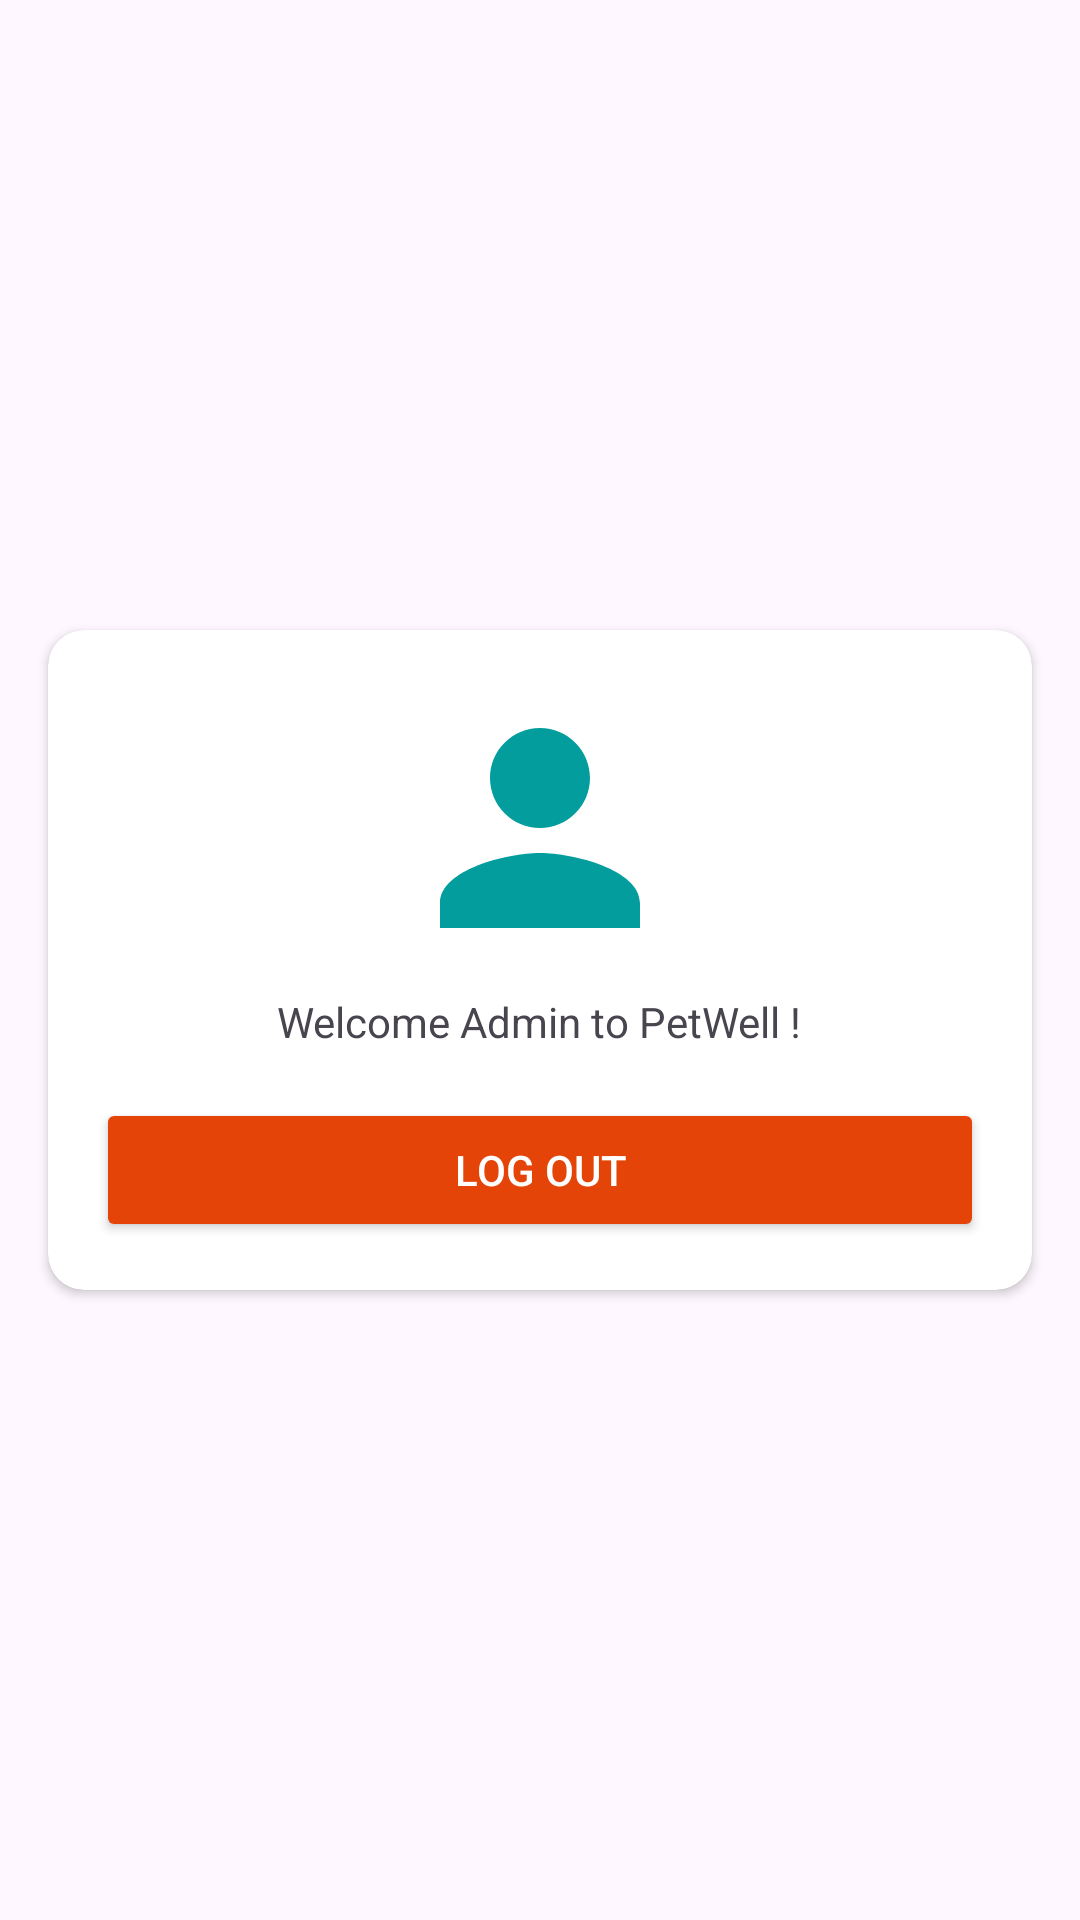

Screen size 1080 × 1920. Icon name, then its box in pixels as bbox(x1, y1, x2, y2):
person: bbox(440, 728, 640, 928)
